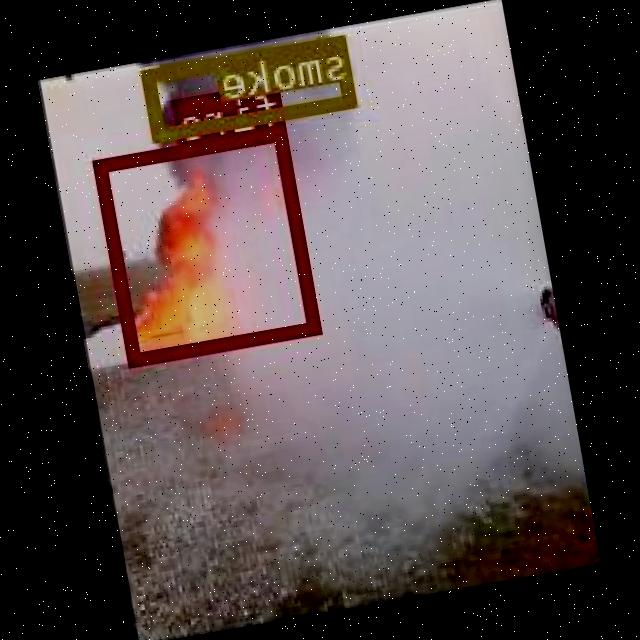fire: (95, 123, 324, 364)
smoke: (144, 32, 358, 140)
